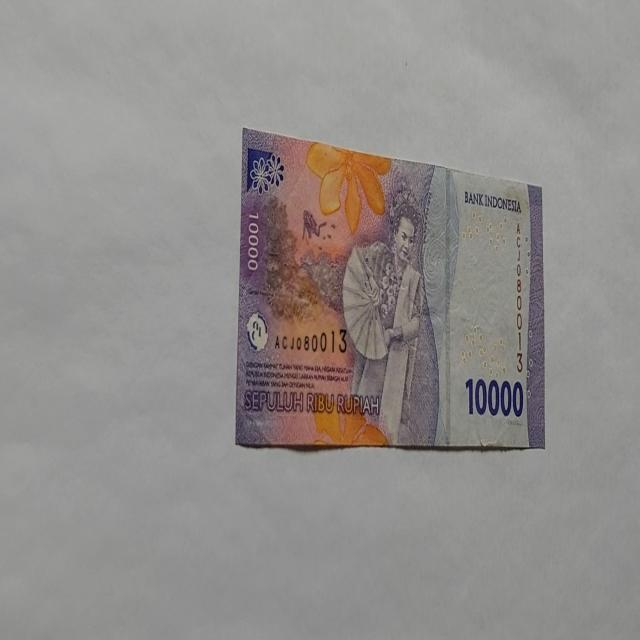sepuluh ribu rupiah: (234, 126, 546, 451)
